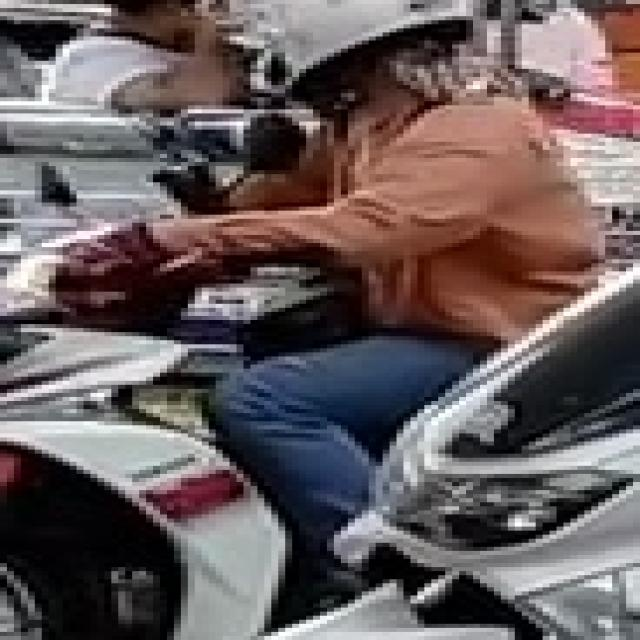door: (0, 417, 285, 636)
helmet: (208, 0, 480, 101)
